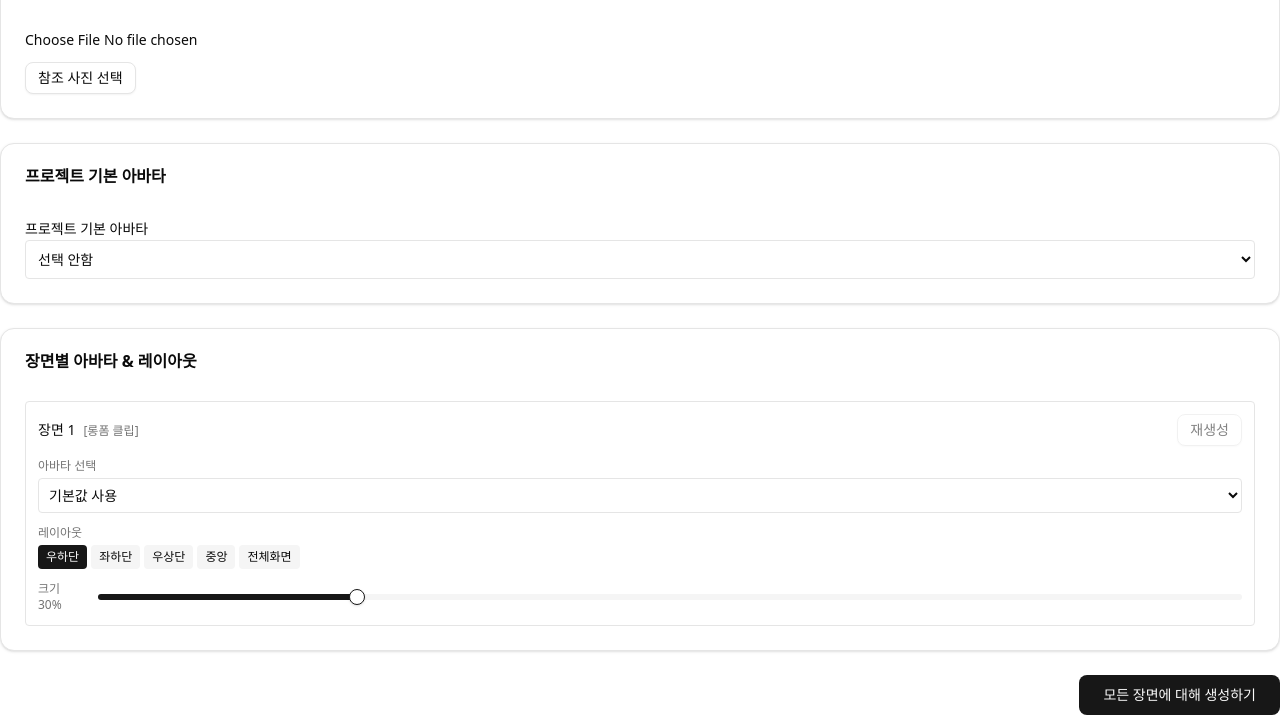
it: AvatarSubTab › shows the longform-clip guard modal when interacting with a longform-clip scene
The image size is (1280, 715).
(page scrolled)
Step 1. Select "preset-1" in the dropdown with test id "scene-preset-select-scene-lf" → (640, 496), box [38,478,1242,513]
(page scrolled)
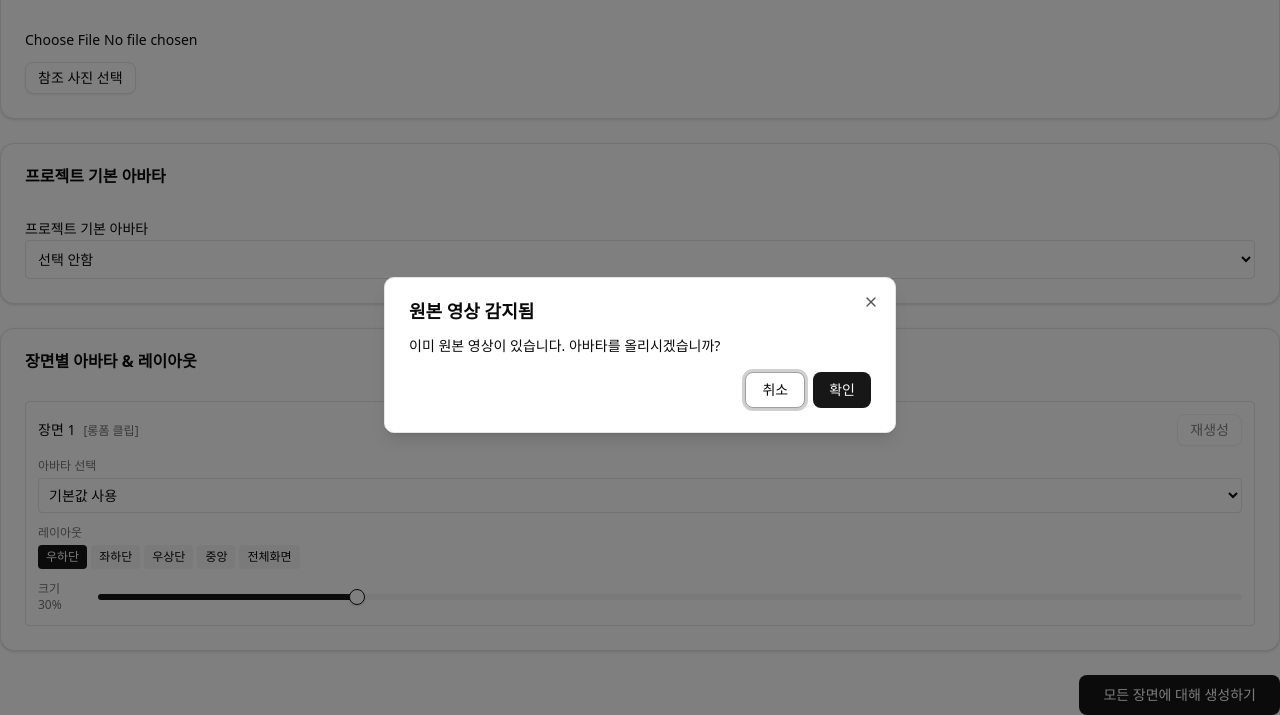
Check: the text "이미 원본 영상이 있습니다. 아바타를 올리시겠습니까?" is shown, box [409,336,720,355]
